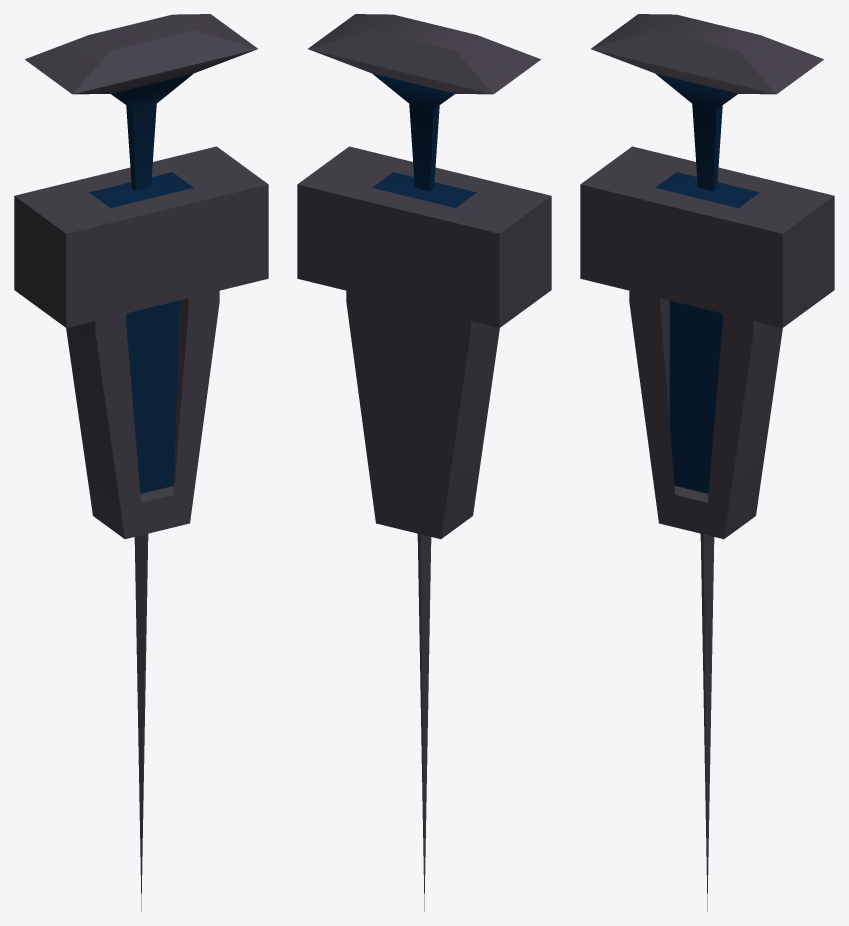
Rendered from SpecialSyringe.glb.
The picture shows the model from 3 angles, left to right: view 1: azimuth 30°, elevation 25°; view 2: azimuth 150°, elevation 25°; view 3: azimuth 330°, elevation 25°; orthographic projection.
Visible parts, largest first — view 1: Syringe; view 2: Syringe; view 3: Syringe.
Part boxes in pixels (box(x1,y1,x2,y2)): Syringe: box(14, 14, 268, 911); Syringe: box(297, 14, 551, 911); Syringe: box(580, 14, 834, 911).
Bounding box in the file's own units: 4.5 × 18.66 × 2.
